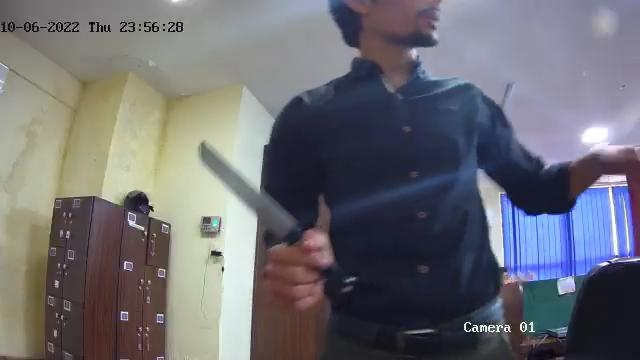knives: (198, 137, 362, 318)
